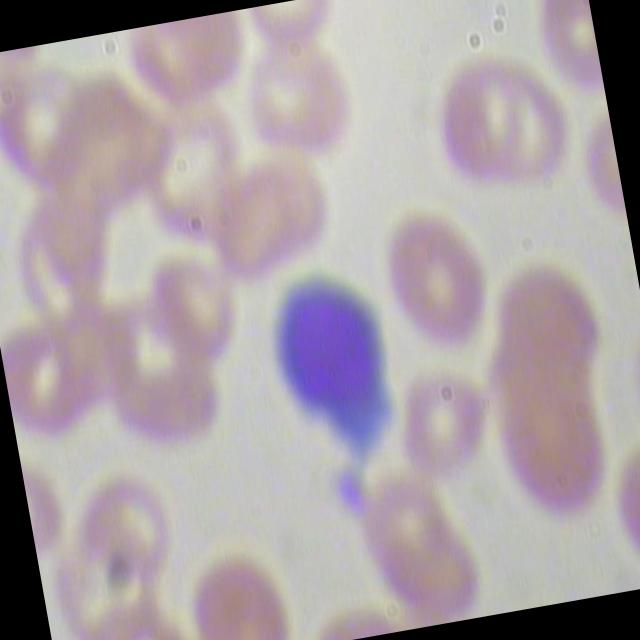Platelets: (333, 462, 376, 524)
WBC: (242, 241, 423, 480)
